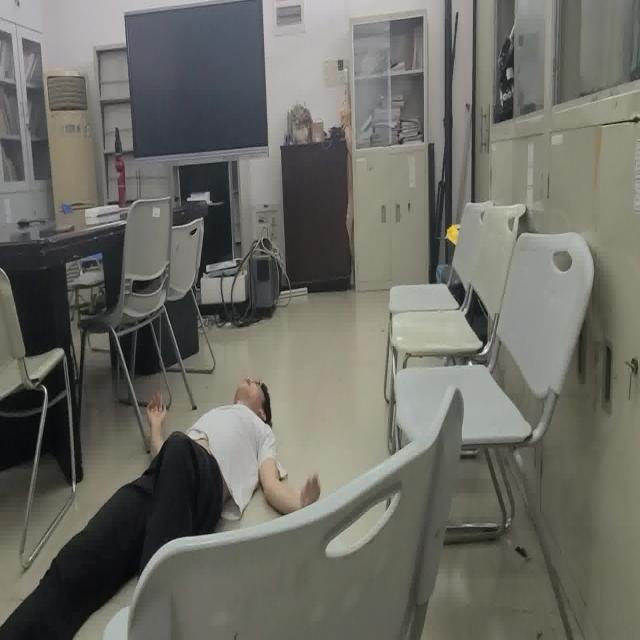Fall-Detected: (0, 369, 324, 640)
